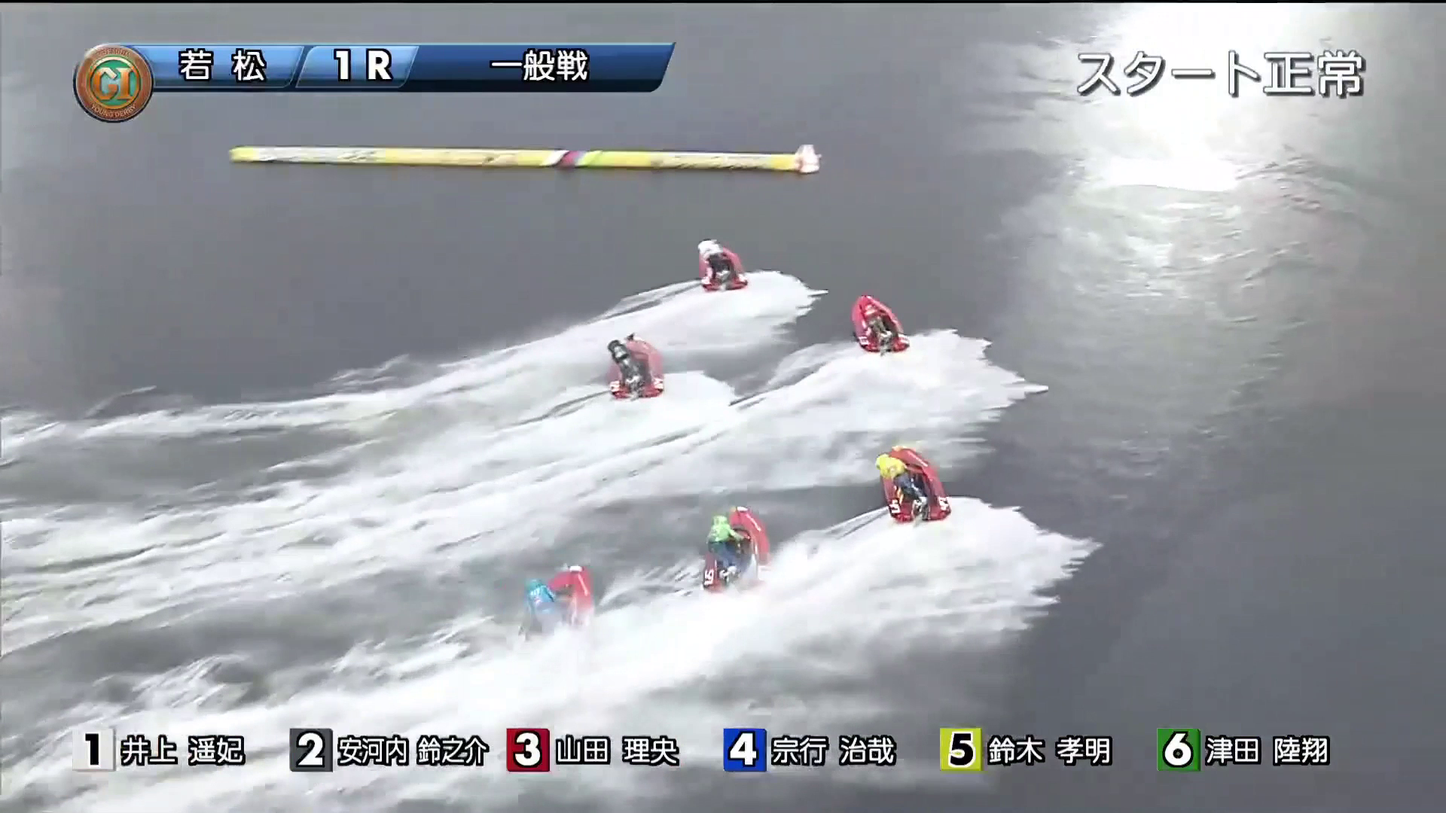１号艇: (678, 247, 749, 301)
２号艇: (583, 359, 711, 420)
３号艇: (827, 319, 925, 365)
４号艇: (660, 539, 794, 604)
５号艇: (467, 602, 590, 657)
６号艇: (872, 474, 971, 531)
